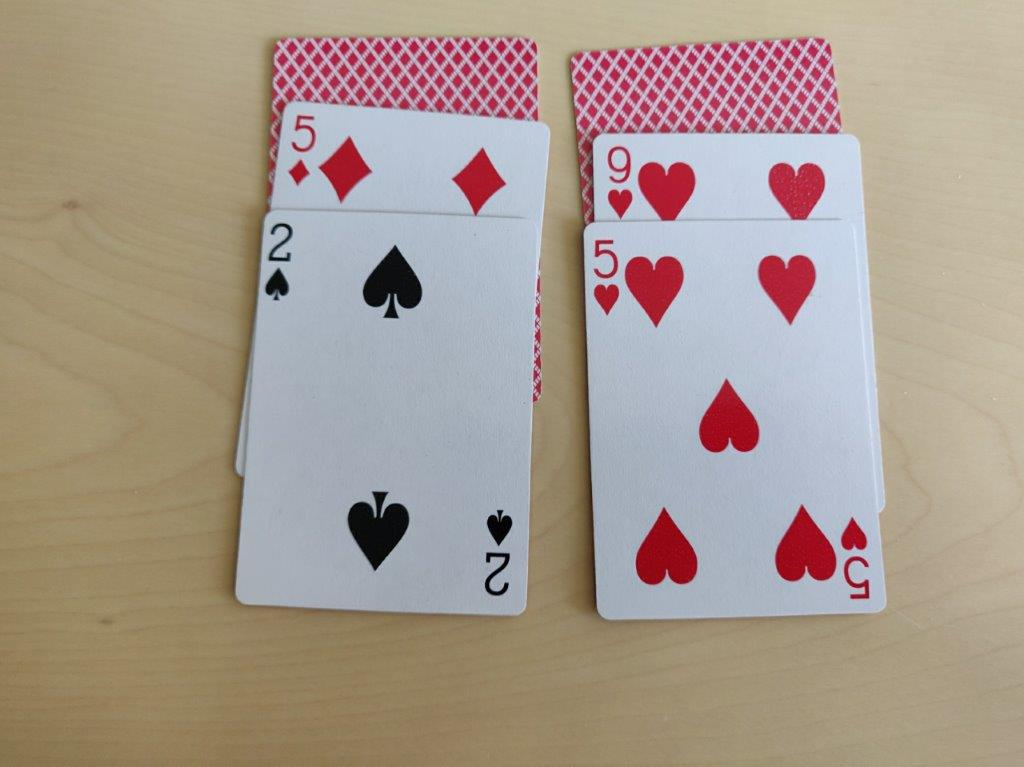2S: (261, 220, 294, 308)
5D: (284, 111, 320, 189)
5H: (588, 226, 624, 321)
9H: (602, 142, 640, 221)
BACK: (566, 36, 848, 134), (269, 32, 539, 118)
